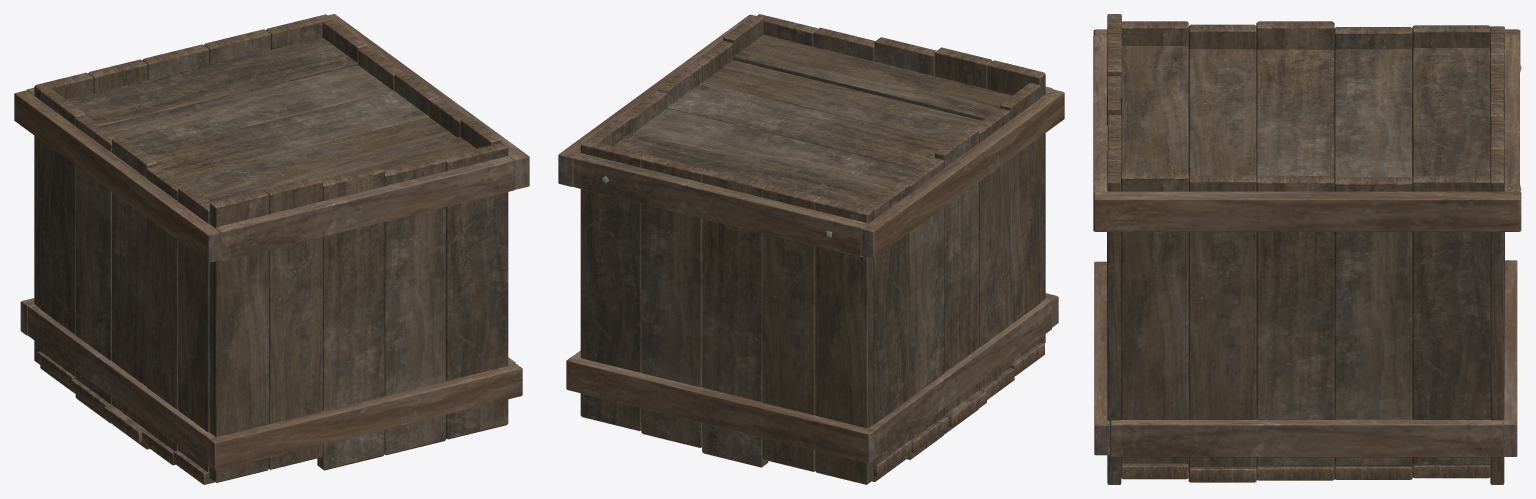
3 views of the same model, side by side, from view 1: azimuth 30°, elevation 25°; view 2: azimuth 150°, elevation 25°; view 3: azimuth 270°, elevation 25° (orthographic). The views are drawn at different scales.
Parts seen in each view (by area): view 1: SM_Box_A_LOD0; view 2: SM_Box_A_LOD0; view 3: SM_Box_A_LOD0.
Part boxes in pixels (left/top/right/bottom): SM_Box_A_LOD0: left=14, top=14, right=529, bottom=484; SM_Box_A_LOD0: left=558, top=14, right=1064, bottom=484; SM_Box_A_LOD0: left=1093, top=14, right=1521, bottom=484.
Bounding box in the file's own units: 81.97 × 86.55 × 72.23.
Materials: 1 (1 with a texture image).
